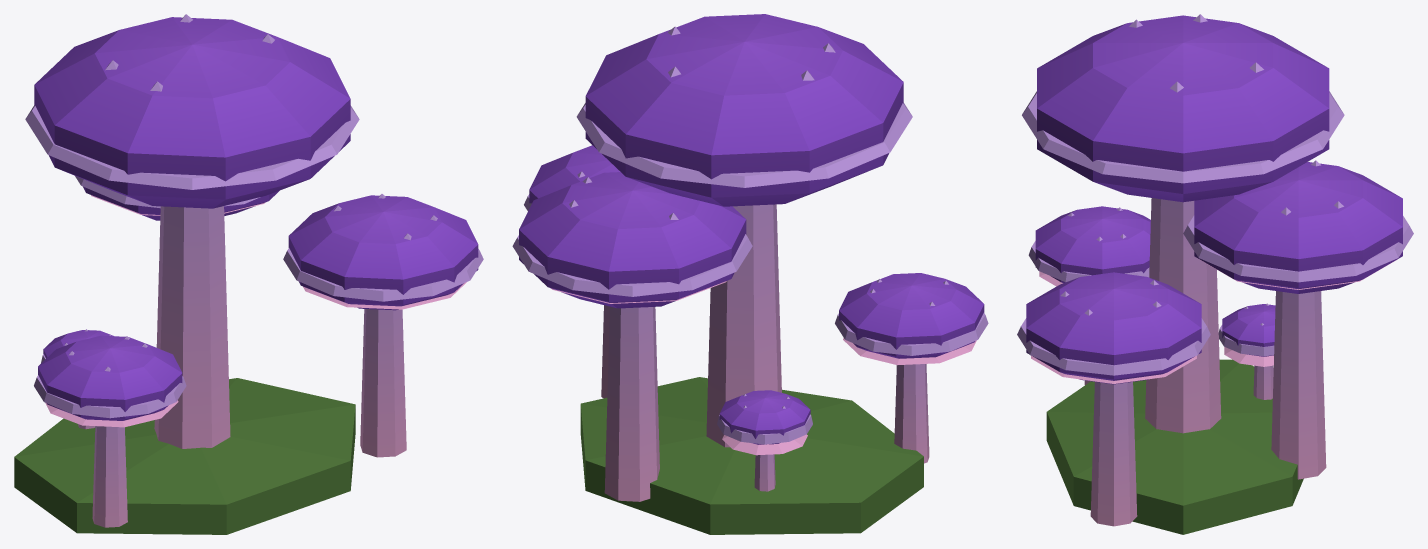
File: neon_mushrooms_violet.glb
3 views of the same model, side by side, from view 1: azimuth 30°, elevation 25°; view 2: azimuth 150°, elevation 25°; view 3: azimuth 270°, elevation 25° (orthographic). The views are drawn at different scales.
Visible parts, largest first — view 1: neon_mushrooms_violet; view 2: neon_mushrooms_violet; view 3: neon_mushrooms_violet.
Part boxes in pixels (x1,y1,x2,y2): neon_mushrooms_violet: [14, 14, 483, 534]; neon_mushrooms_violet: [512, 14, 988, 534]; neon_mushrooms_violet: [1017, 14, 1413, 534].
Bounding box in the file's own units: 2.09 × 2.05 × 1.72.
